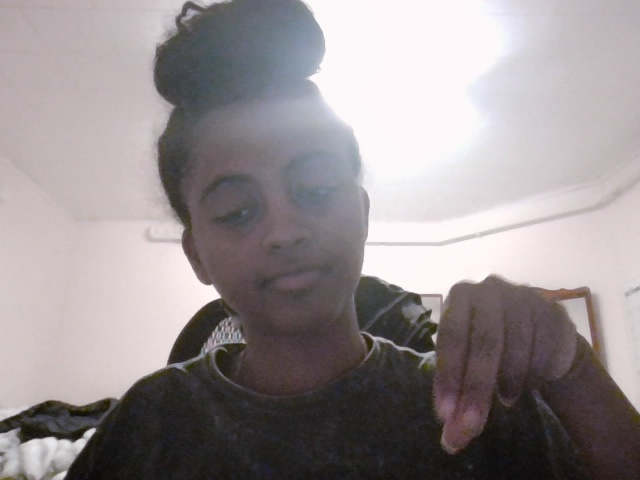No: (418, 267, 587, 458)
